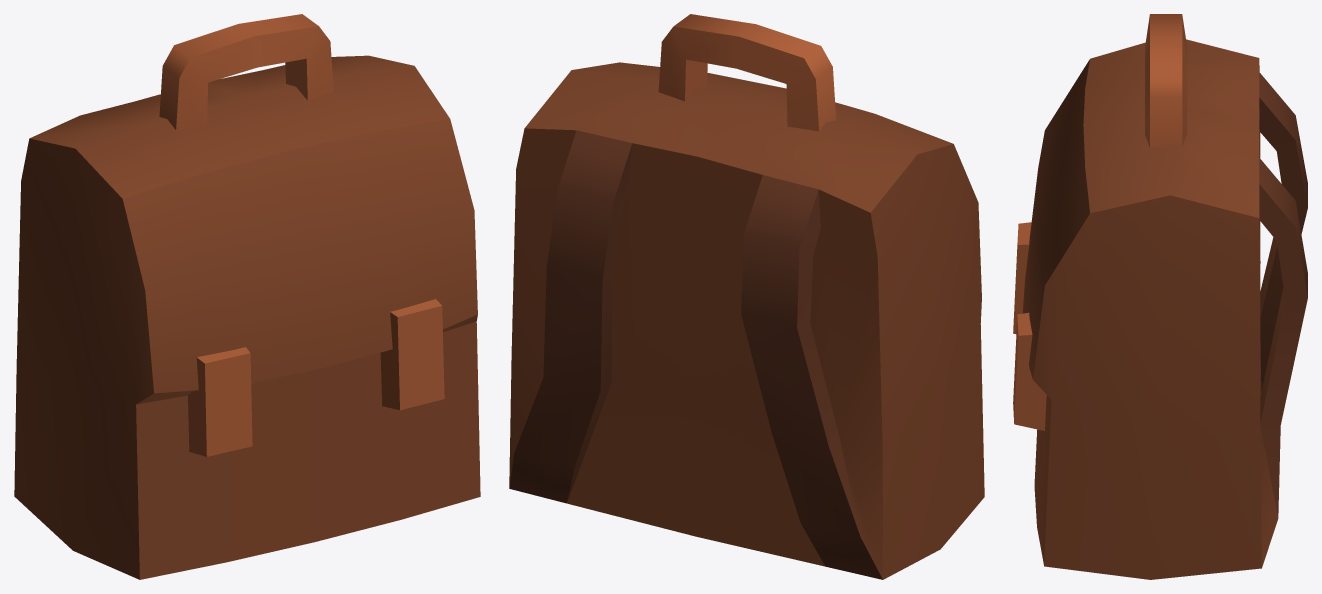
The model's file is bag_backpack_v1.fbx.
3 renders of one model, left to right at view 1: azimuth 30°, elevation 25°; view 2: azimuth 150°, elevation 25°; view 3: azimuth 270°, elevation 25°, orthographic. The views are drawn at different scales.
Visible parts, largest first — view 1: bag_backpack_v1; view 2: bag_backpack_v1; view 3: bag_backpack_v1.
Boxes of the visible parts, left/top/right/bottom form: bag_backpack_v1: left=14, top=14, right=480, bottom=579; bag_backpack_v1: left=509, top=14, right=984, bottom=579; bag_backpack_v1: left=1013, top=14, right=1307, bottom=579.
Bounding box in the file's own units: 42.47 × 52.1 × 30.59.
